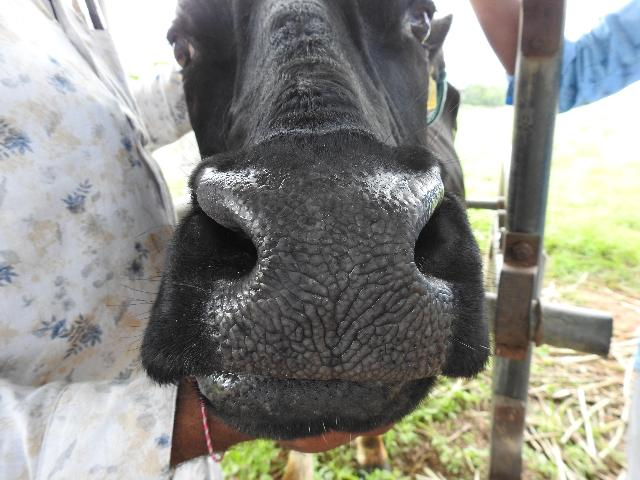Muzzle: (263, 184, 411, 382)
